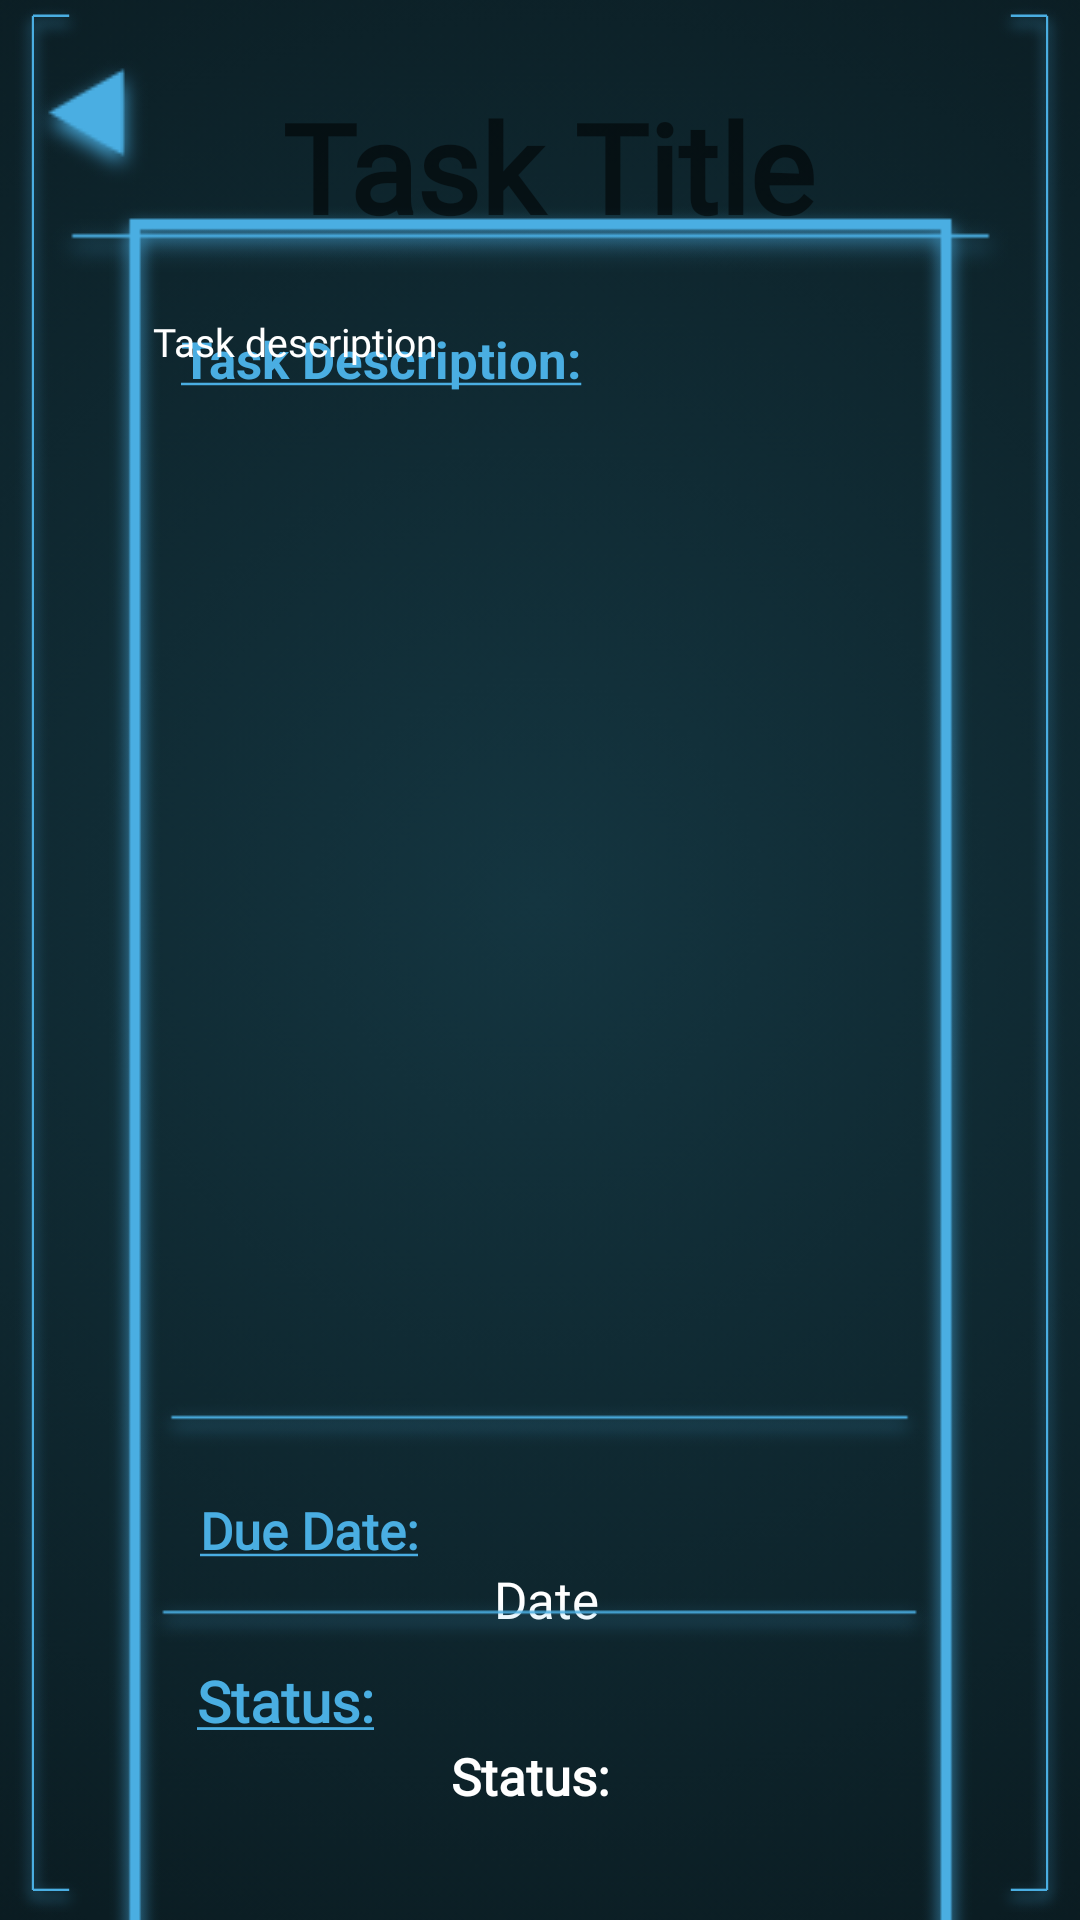

Named icons in this screenshot (1080w x 1920h) and their centers, [x,y]:
back: [90,117]
